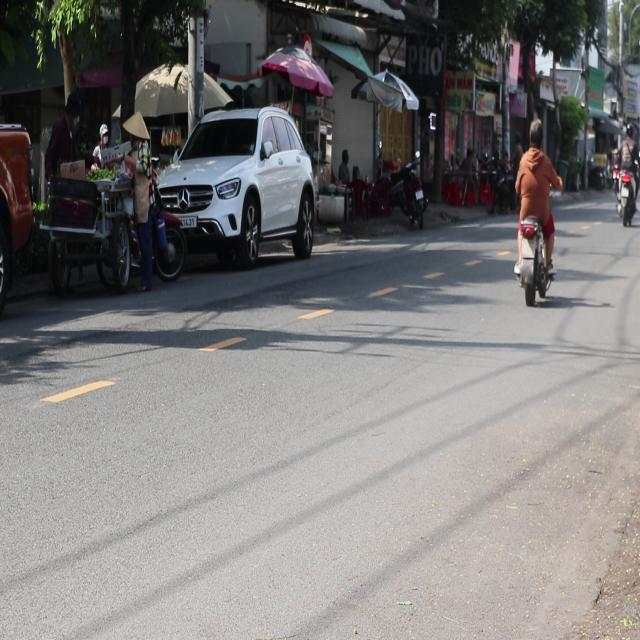licenseplate: (511, 117, 560, 306)
motorcyclist: (526, 118, 544, 149)
nohelmet: (521, 238, 534, 257)
